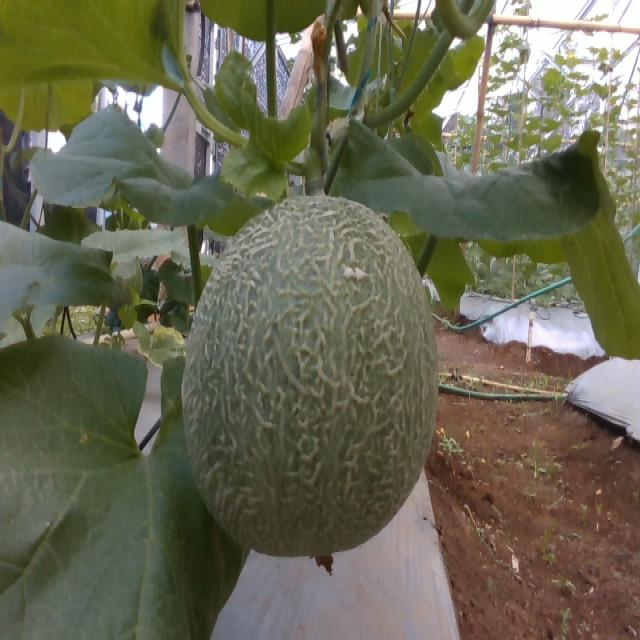melon: (182, 196, 438, 557)
